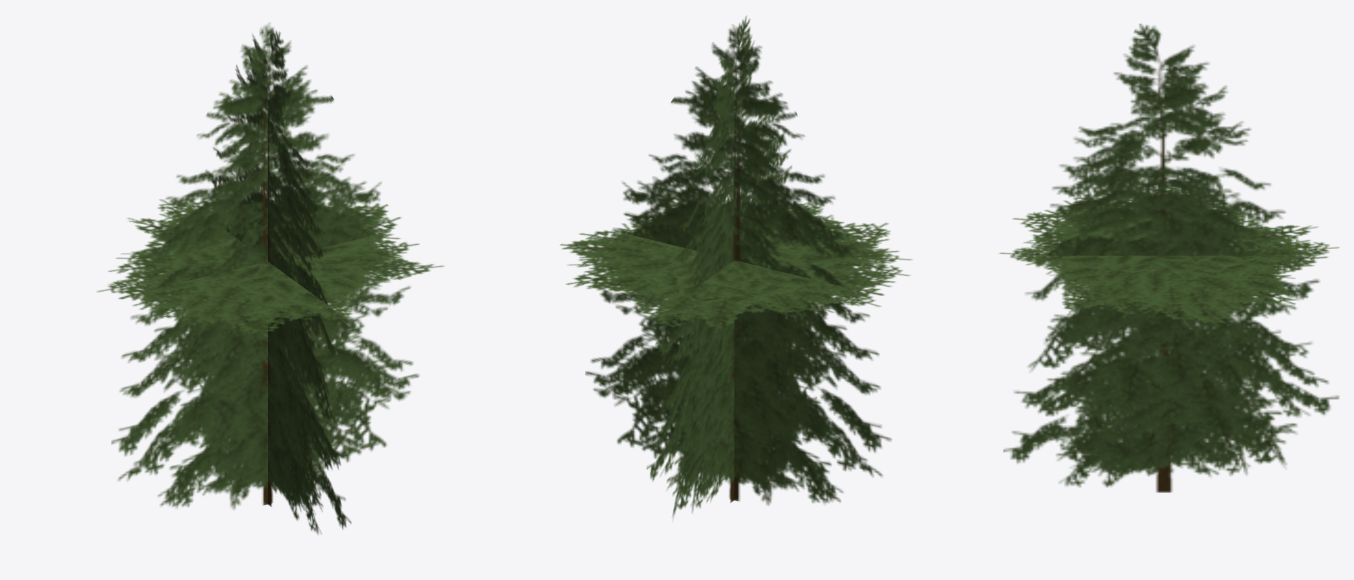
Rendered from fir-medium-3-lod-3.glb.
The picture shows the model from 3 angles, left to right: view 1: azimuth 30°, elevation 25°; view 2: azimuth 150°, elevation 25°; view 3: azimuth 270°, elevation 25°; orthographic projection. The views are drawn at different scales.
Parts seen in each view (by area): view 1: fir-medium-3-lod-3; view 2: fir-medium-3-lod-3; view 3: fir-medium-3-lod-3.
Part boxes in pixels (left/top/right/bottom): fir-medium-3-lod-3: left=97, top=23, right=443, bottom=534; fir-medium-3-lod-3: left=560, top=16, right=912, bottom=517; fir-medium-3-lod-3: left=999, top=24, right=1339, bottom=492.
Size of the model in its own units: 4.52 by 6.55 by 4.35.
1 material, 1 textured.
